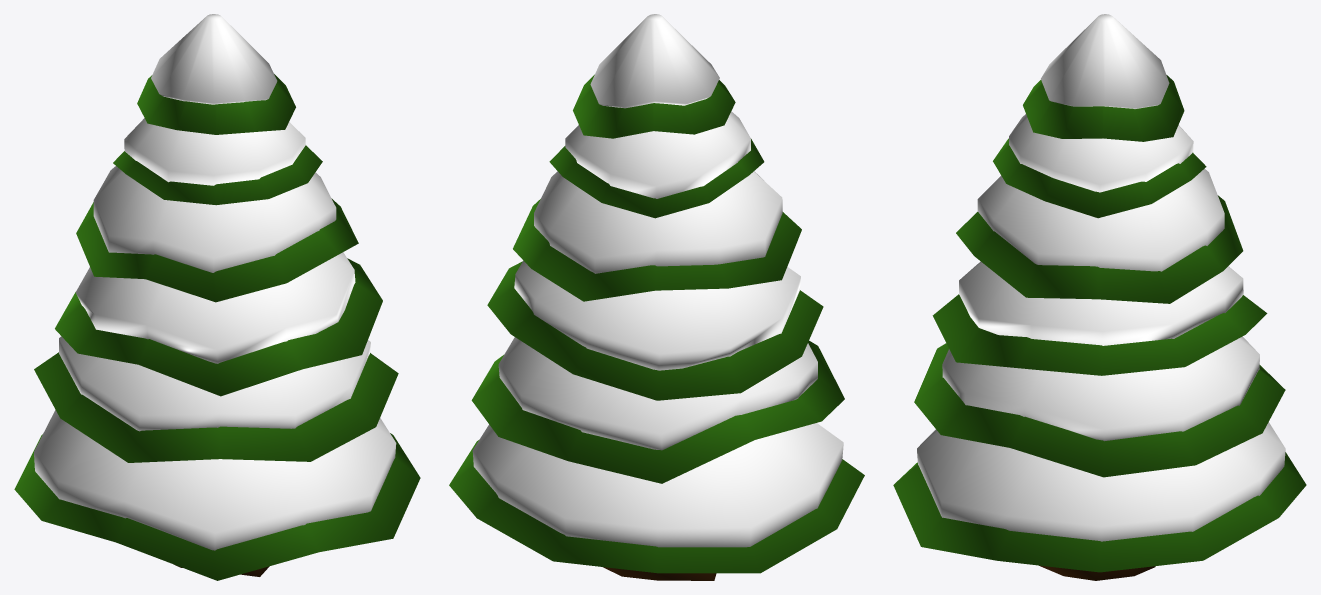
The model's file is snowtree.fbx.
3 renders of one model, left to right at view 1: azimuth 30°, elevation 25°; view 2: azimuth 150°, elevation 25°; view 3: azimuth 270°, elevation 25°, orthographic. The views are drawn at different scales.
Parts seen in each view (by area): view 1: tree; view 2: tree; view 3: tree.
Boxes of the visible parts, bbox=[...] form: tree: bbox=[14, 14, 420, 580]; tree: bbox=[449, 14, 864, 580]; tree: bbox=[893, 14, 1306, 580].
Size of the model in its own units: 455 by 651 by 455.
1 material, 1 textured.
